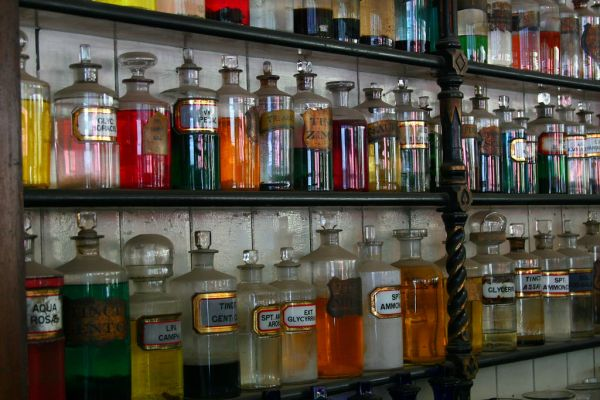unknown_bottle: (56, 228, 132, 398), (168, 235, 241, 399), (53, 44, 119, 191), (300, 229, 364, 378), (116, 51, 172, 191), (391, 229, 448, 366), (357, 232, 404, 371), (271, 248, 318, 385), (236, 259, 283, 391), (216, 56, 259, 192), (291, 53, 332, 192), (18, 30, 53, 189), (253, 62, 295, 192), (325, 80, 368, 192), (530, 236, 571, 342), (479, 254, 517, 353), (511, 252, 545, 347)
